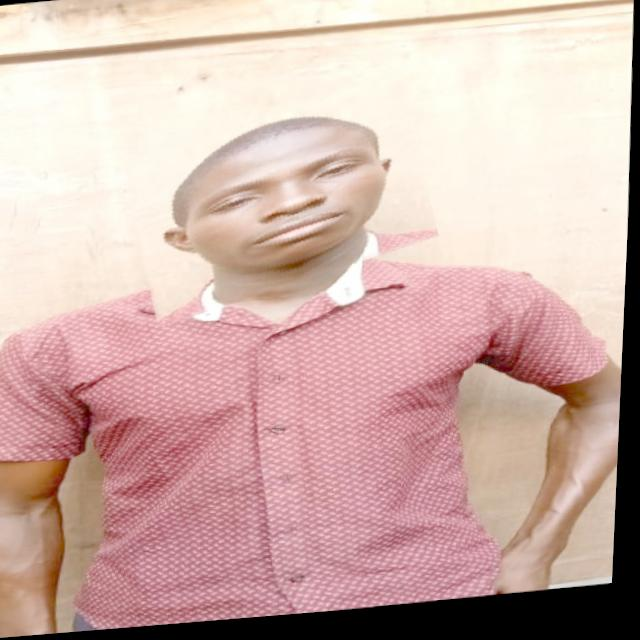sad: (126, 89, 439, 318)
